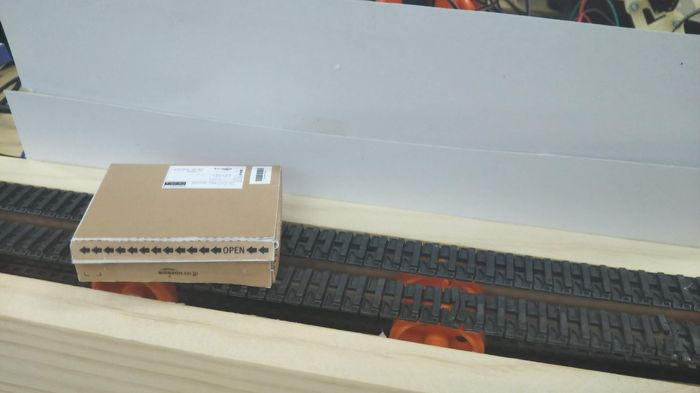box2: (67, 159, 291, 289)
